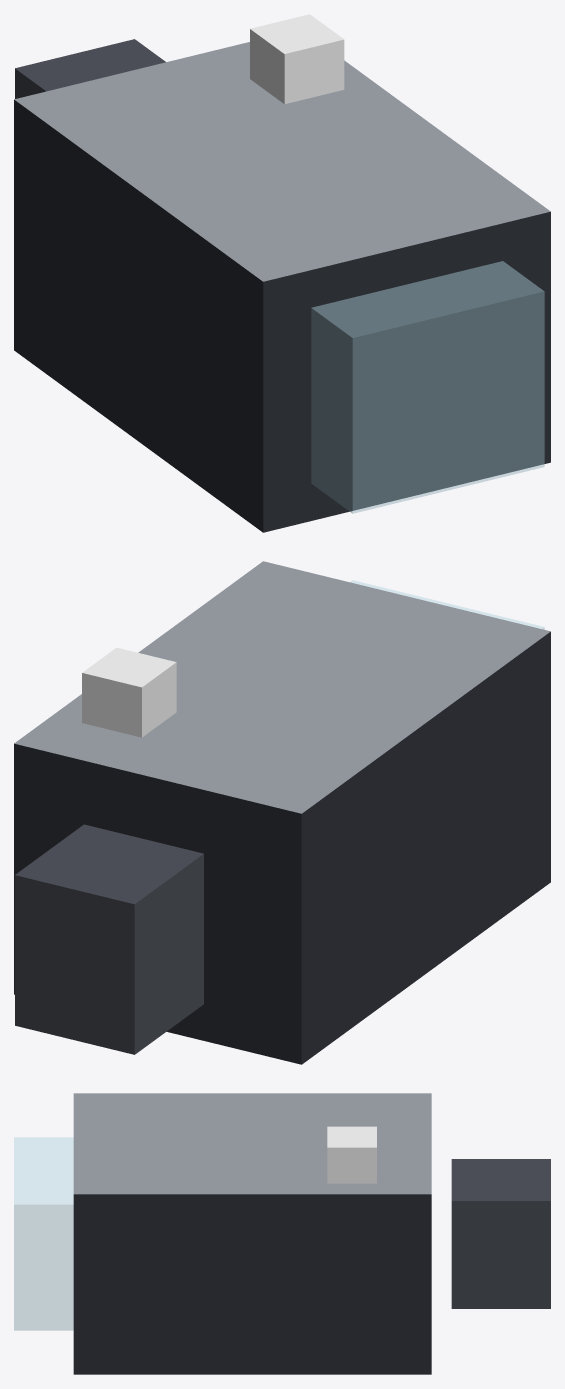
File: prop_cctv.glb
3 renders of one model, top to bottom at view 1: azimuth 30°, elevation 25°; view 2: azimuth 150°, elevation 25°; view 3: azimuth 270°, elevation 25°, orthographic. The views are drawn at different scales.
Visible parts, largest first — view 1: head, base; view 2: head, base; view 3: head, base.
Boxes of the visible parts, box(x1,y1,x2,y2) form: head: box(14, 14, 550, 532); base: box(15, 39, 165, 98); head: box(14, 561, 550, 1064); base: box(15, 824, 203, 1054); head: box(14, 1093, 431, 1374); base: box(451, 1159, 550, 1308).
Bounding box in the file's own units: 0.12 × 0.12 × 0.27.
Materials: 3 (1 with a texture image).
